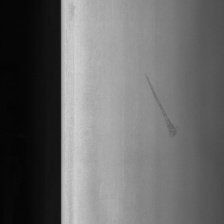water_spot: (142, 68, 185, 148)
